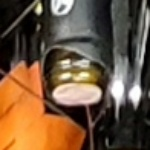bottle: (25, 36, 123, 124)
